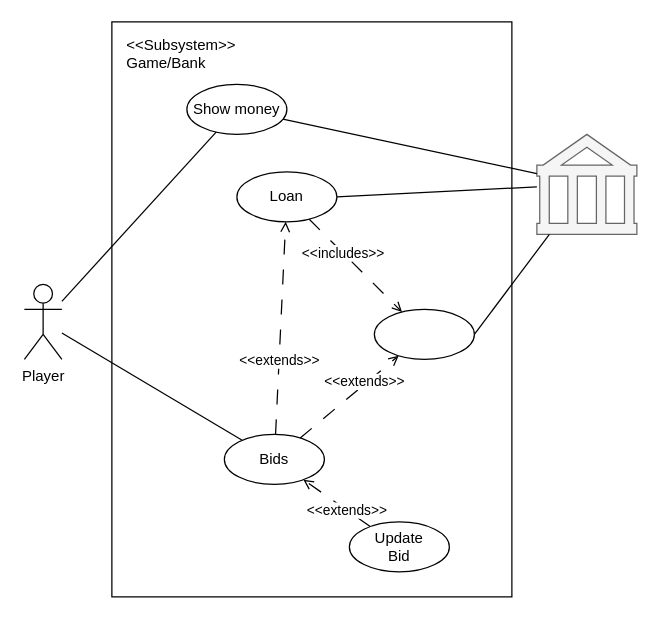
This 659x619 diagram has some shape labels left out. Each missing label, with the box of its shape:
Bank: (536, 133, 637, 234)
Reward: (373, 308, 474, 359)
